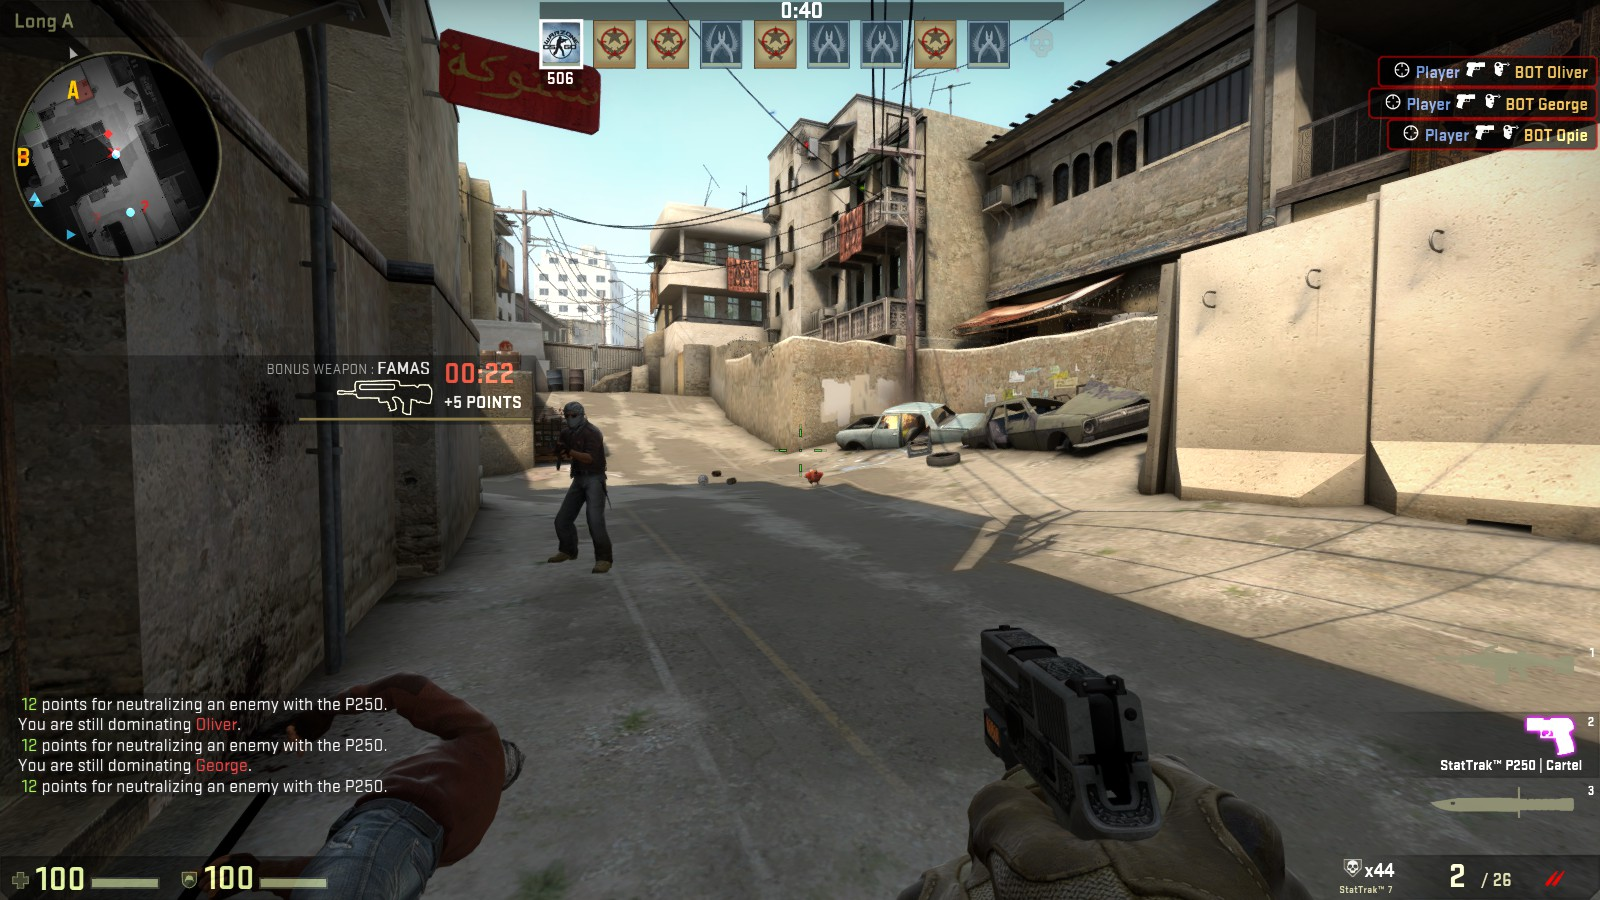t: (556, 400, 611, 568)
th: (562, 400, 587, 432)
